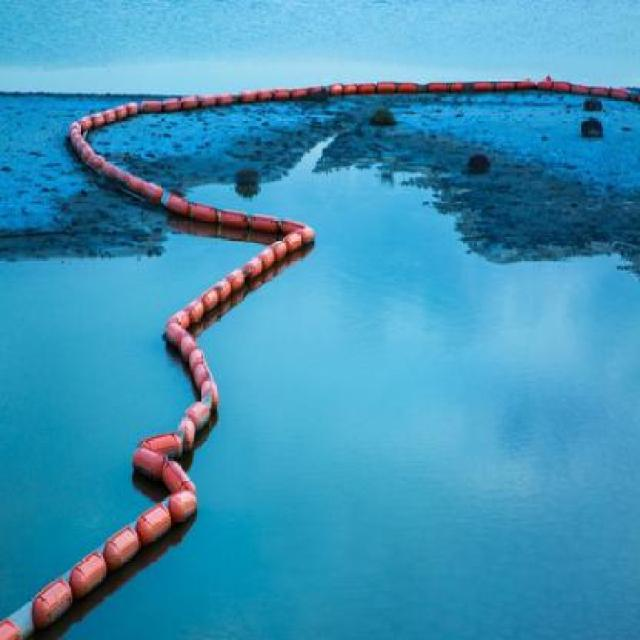a: (194, 274, 243, 340), (26, 570, 82, 624), (126, 165, 174, 223), (65, 551, 116, 605), (209, 206, 255, 265), (172, 332, 206, 396), (275, 215, 310, 275), (507, 68, 547, 117), (99, 533, 143, 577), (157, 487, 205, 526), (419, 72, 457, 119), (126, 518, 170, 558), (68, 116, 99, 161), (296, 71, 328, 109), (245, 83, 276, 121), (464, 71, 496, 106), (578, 79, 606, 115), (166, 92, 190, 129), (366, 69, 387, 102), (621, 88, 639, 117)
